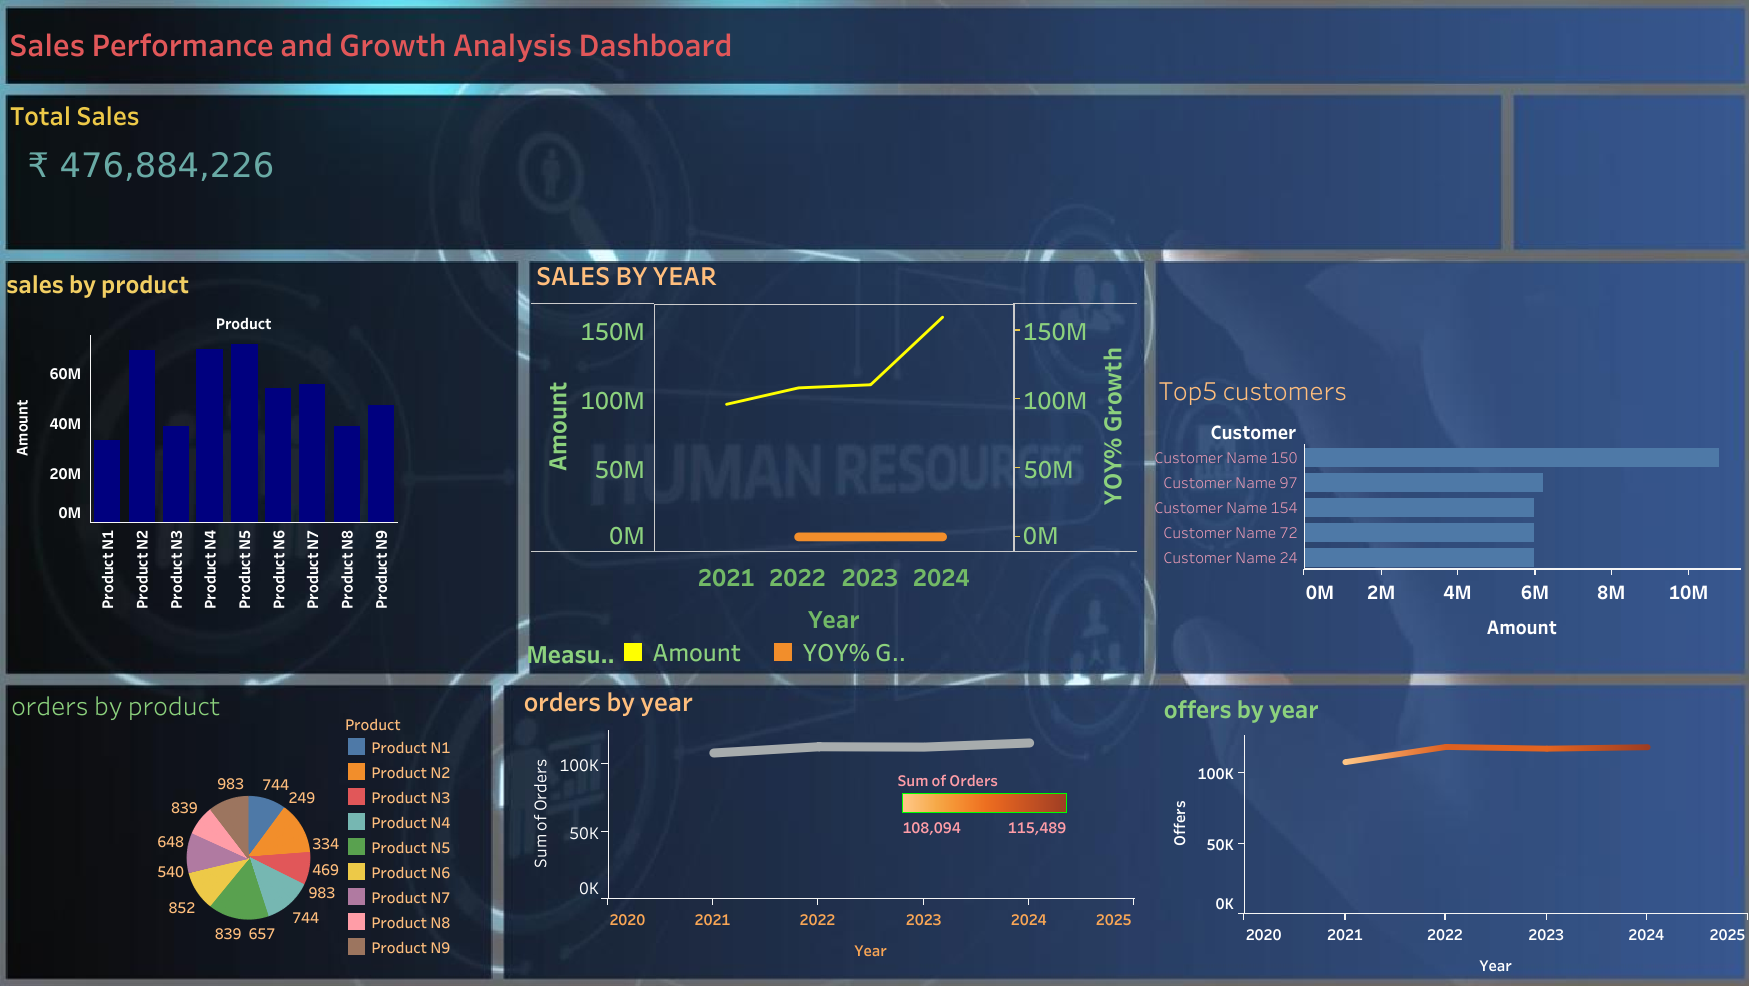

This screenshot's page, from the dashboard's own definition file:
{"tool":"tableau","page":{"name":"Dashboard 1","canvas":[1400,800],"ordinal":0},"visuals":[{"type":"text","box":[5,4,826,61]},{"type":"worksheet","title":"KPI","mark":"Automatic","box":[4,72,331,130]},{"type":"worksheet","title":"SALES BY YEAR","mark":"Automatic","rows":["Amount","Calculation_159877789407698944"],"cols":["Year"],"box":[425,200,485,315]},{"type":"worksheet","title":"sales by product","mark":"Automatic","rows":["Amount"],"cols":["Product"],"box":[1,207,317,291]},{"type":"worksheet","title":"Top5 customers","mark":"Automatic","rows":["Customer"],"cols":["Amount"],"box":[923,292,469,245]},{"type":"legend","title":"SALES BY YEAR","param":"[federated.1lav0ct0ko3c9i15nkzg81bkrahv].[:Measure Names]","box":[421,508,628,28]},{"type":"worksheet","title":"orders by year","mark":"Automatic","rows":["Orders"],"cols":["Year"],"box":[415,541,492,235]},{"type":"worksheet","title":"orders by product","mark":"Pie","box":[5,544,388,241]},{"type":"worksheet","title":"offers by year","mark":"Automatic","rows":["Offers"],"cols":["Year"],"box":[927,547,471,241]},{"type":"legend","title":"orders by product","param":"[federated.1lav0ct0ko3c9i15nkzg81bkrahv].[none:Product:nk]","box":[275,568,138,233]},{"type":"legend","title":"offers by year","param":"[federated.1lav0ct0ko3c9i15nkzg81bkrahv].[sum:Orders:qk]","box":[718,611,140,88]}]}

Visuals, with their boxes in screenshot pixels (x1, y1, x2, y2), scaled from the page's 1400x800 canvas onto the 1749x999 screenshot:
text: left=6, top=5, right=1038, bottom=81
"KPI" worksheet: left=5, top=90, right=419, bottom=252
"SALES BY YEAR" worksheet: left=531, top=250, right=1137, bottom=643
"sales by product" worksheet: left=1, top=258, right=397, bottom=622
"Top5 customers" worksheet: left=1153, top=365, right=1739, bottom=671
"SALES BY YEAR" legend: left=526, top=634, right=1311, bottom=669
"orders by year" worksheet: left=518, top=676, right=1133, bottom=969
"orders by product" worksheet (Pie marks): left=6, top=679, right=491, bottom=980
"offers by year" worksheet: left=1158, top=683, right=1747, bottom=984
"orders by product" legend: left=344, top=709, right=516, bottom=998
"offers by year" legend: left=897, top=763, right=1072, bottom=873
